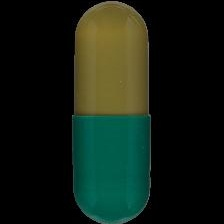16590-187: (0, 0, 224, 224)
